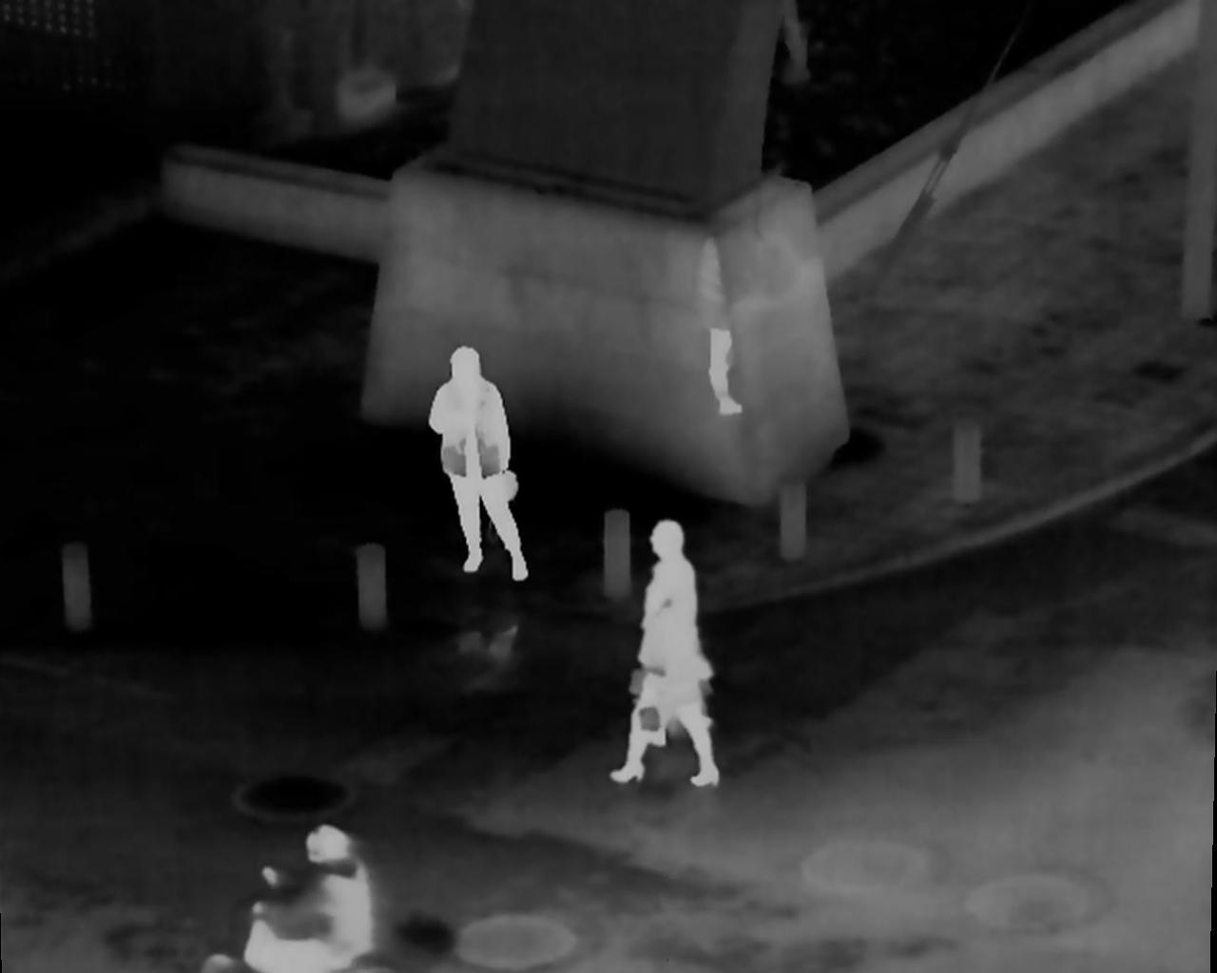person: (610, 518, 718, 787), (427, 342, 528, 581), (247, 821, 385, 966)
